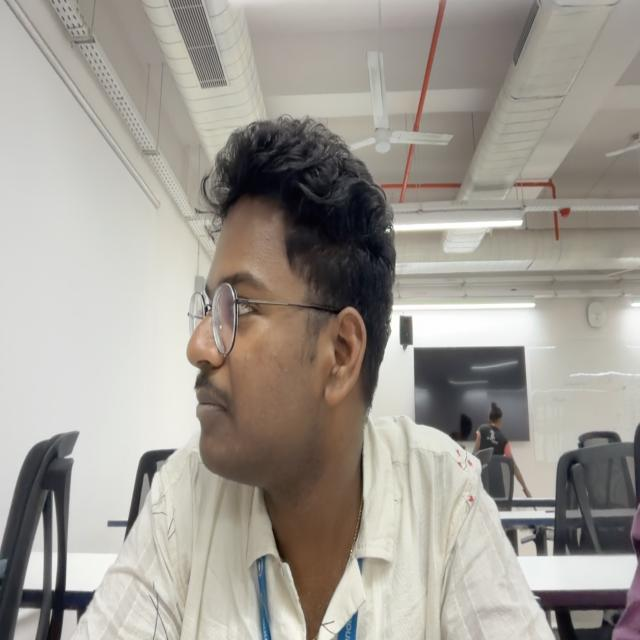sai: (188, 113, 396, 478)
